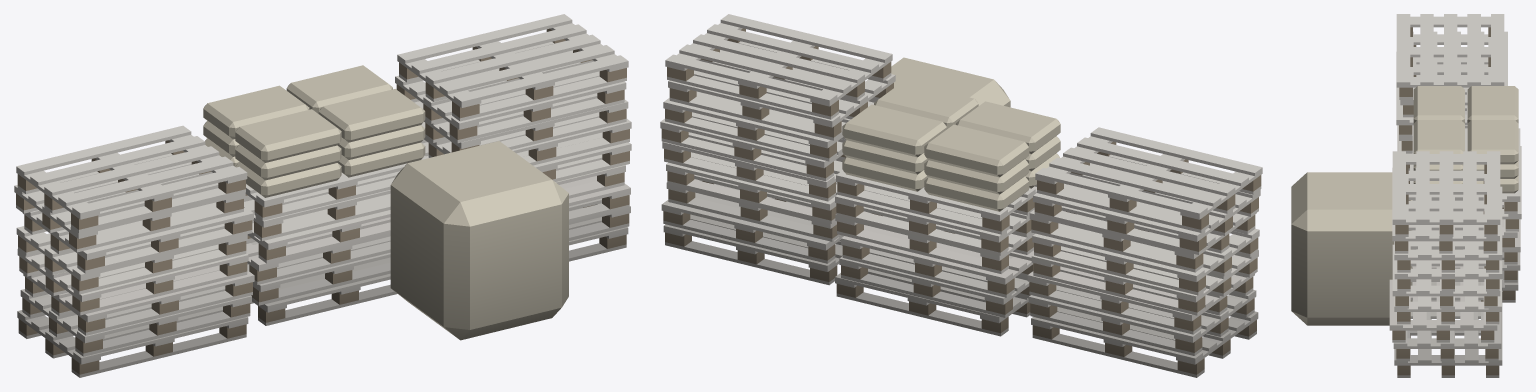
Rendered from material_stack.glb.
3 renders of one model, left to right at view 1: azimuth 30°, elevation 25°; view 2: azimuth 150°, elevation 25°; view 3: azimuth 270°, elevation 25°, orthographic. The views are drawn at different scales.
Visible parts, largest first — view 1: material_stack_LOD0; view 2: material_stack_LOD0; view 3: material_stack_LOD0.
Part boxes in pixels (x1=…): material_stack_LOD0: x1=14, y1=14, x2=631, y2=377; material_stack_LOD0: x1=660, y1=14, x2=1262, y2=377; material_stack_LOD0: x1=1291, y1=14, x2=1521, y2=377.
Size of what is drawn, in the model's own units: 3.95 by 1.3 by 1.71.
